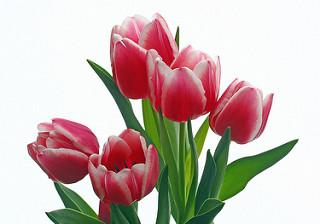tulip: (110, 12, 178, 100), (147, 45, 218, 122), (90, 128, 158, 206), (26, 116, 98, 185), (210, 80, 274, 142)
